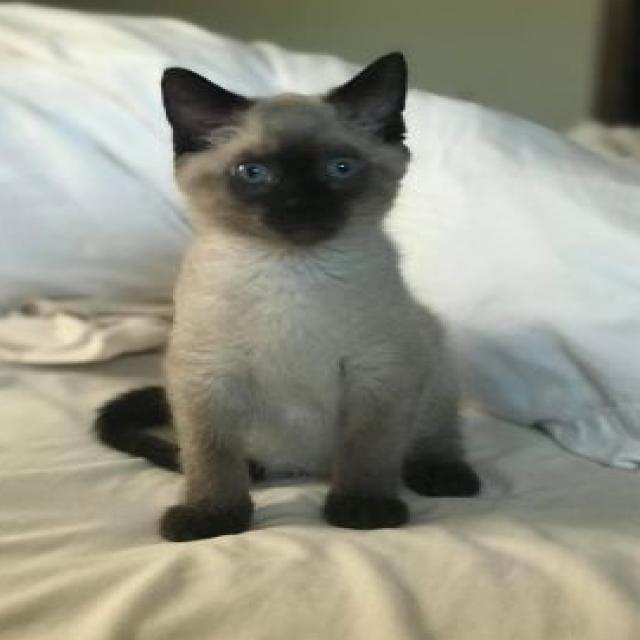Siamese: (92, 45, 488, 547)
